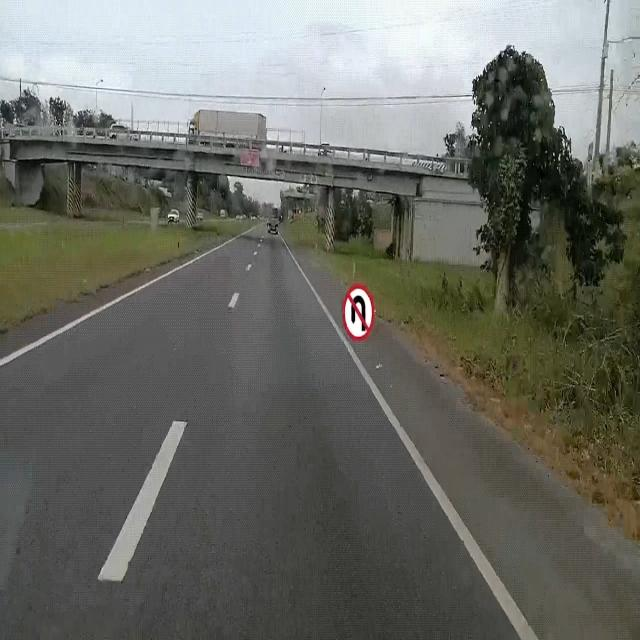Demi-Tour-Interdit: (340, 276, 379, 348)
